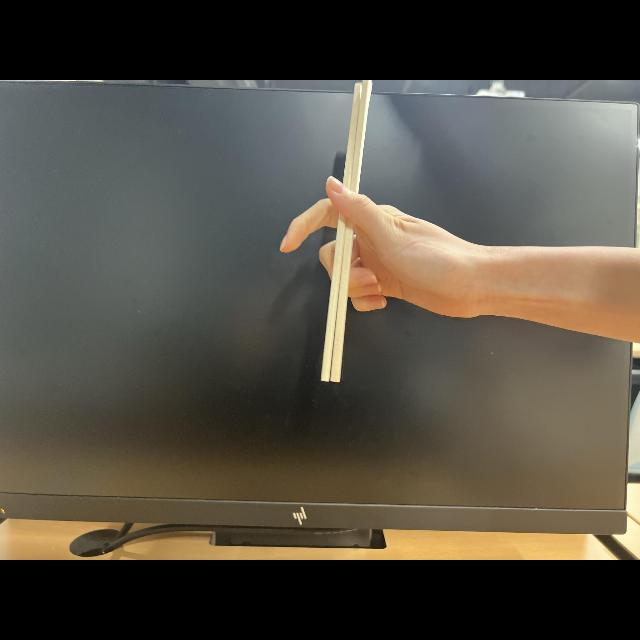stick: (276, 96, 459, 390)
